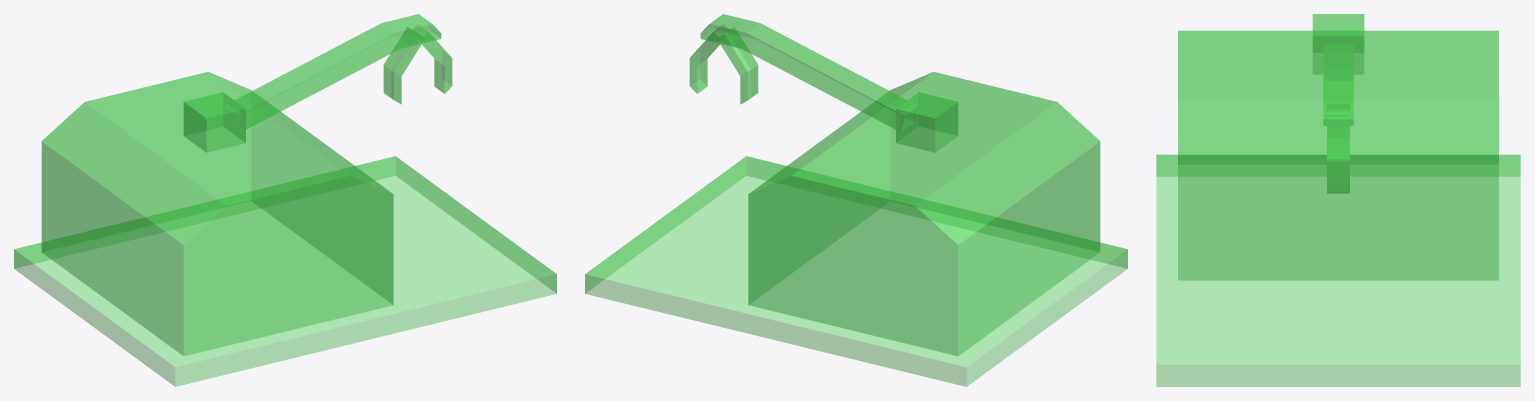
File: vehicle_depot.gltf
The picture shows the model from 3 angles, left to right: view 1: azimuth 30°, elevation 25°; view 2: azimuth 150°, elevation 25°; view 3: azimuth 270°, elevation 25°; orthographic projection. The views are drawn at different scales.
Parts seen in each view (by area): view 1: Garage, Base, Cube.002, Crane, Cube.003, Cube.004; view 2: Garage, Base, Cube.002, Crane, Cube.003, Cube.004; view 3: Base, Garage, Crane, Cube.002, Cube.004, Cube.003.
Part boxes in pixels (bbox=[...]): Garage: bbox=[41, 72, 393, 355]; Base: bbox=[14, 156, 556, 386]; Cube.002: bbox=[223, 14, 441, 131]; Crane: bbox=[183, 92, 245, 152]; Cube.003: bbox=[383, 27, 424, 104]; Cube.004: bbox=[412, 24, 452, 93]; Garage: bbox=[748, 72, 1100, 355]; Base: bbox=[585, 156, 1127, 386]; Cube.002: bbox=[700, 14, 918, 131]; Crane: bbox=[896, 92, 958, 152]; Cube.003: bbox=[717, 27, 758, 104]; Cube.004: bbox=[689, 24, 728, 93]; Base: bbox=[1156, 154, 1520, 386]; Garage: bbox=[1178, 30, 1498, 280]; Crane: bbox=[1312, 14, 1364, 74]; Cube.002: bbox=[1323, 44, 1353, 125]; Cube.004: bbox=[1327, 109, 1349, 193]; Cube.003: bbox=[1327, 104, 1349, 169].
Size of the model in its own units: 60.25 by 34.44 by 44.12.
